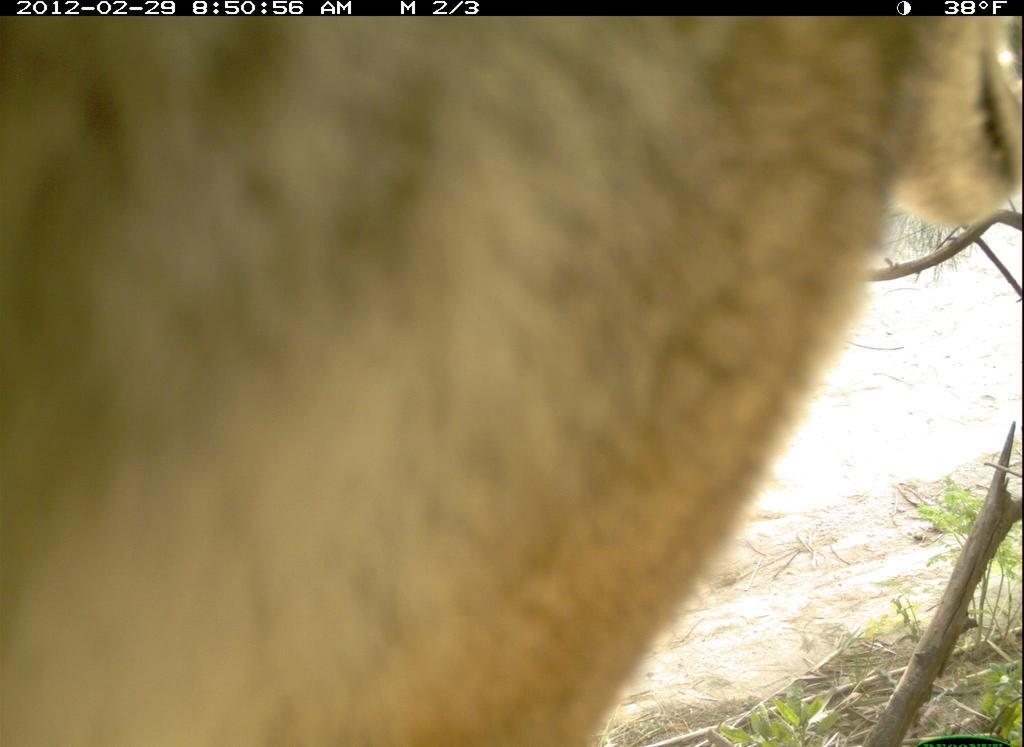coyote: (2, 15, 1022, 747)
